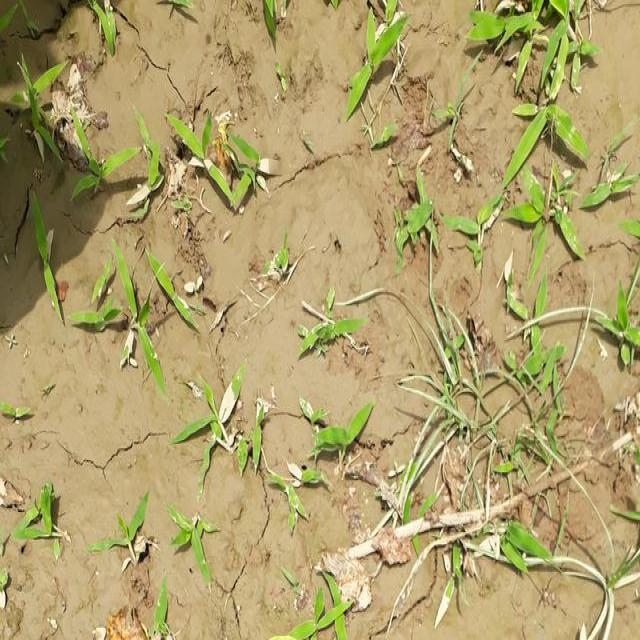weed: (345, 3, 640, 586), (15, 85, 269, 373)
